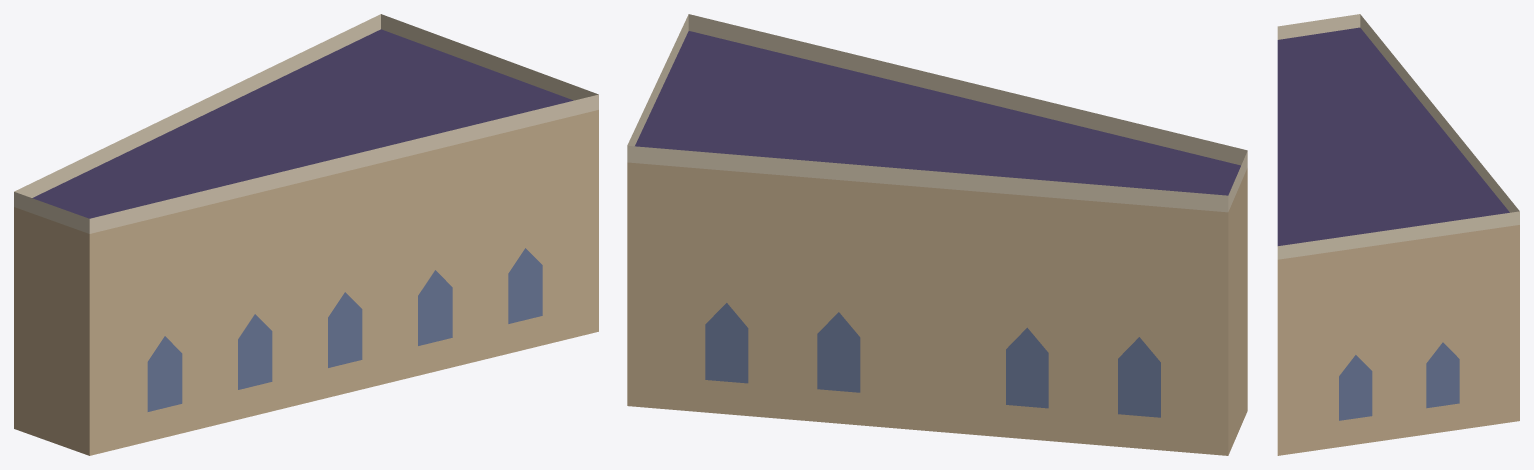
File: b-127-day.glb
The picture shows the model from 3 angles, left to right: view 1: azimuth 30°, elevation 25°; view 2: azimuth 150°, elevation 25°; view 3: azimuth 270°, elevation 25°; orthographic projection. The views are drawn at different scales.
Parts seen in each view (by area): view 1: campus/b-127-day-0; view 2: campus/b-127-day-0; view 3: campus/b-127-day-0.
Boxes of the visible parts, left/top/right/bottom form: campus/b-127-day-0: left=14, top=14, right=598, bottom=455; campus/b-127-day-0: left=627, top=14, right=1247, bottom=455; campus/b-127-day-0: left=1277, top=14, right=1519, bottom=455.
Bounding box in the file's own units: 20.31 × 8.55 × 9.01.
